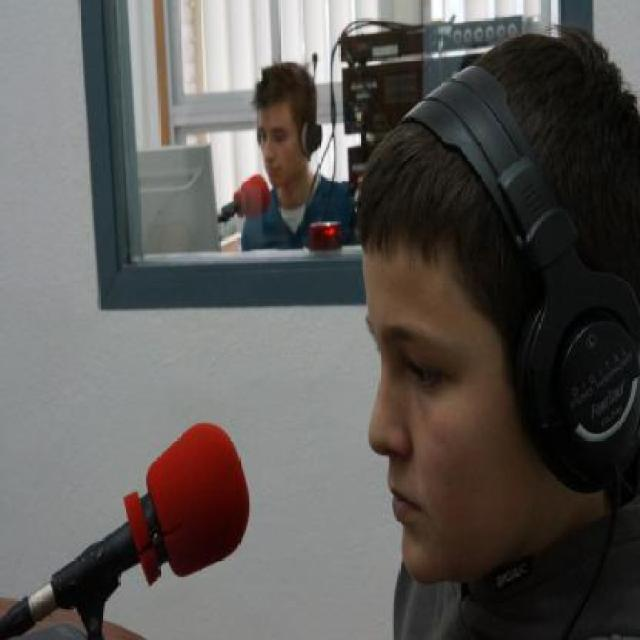earphone: (425, 74, 640, 516), (296, 81, 332, 168)
